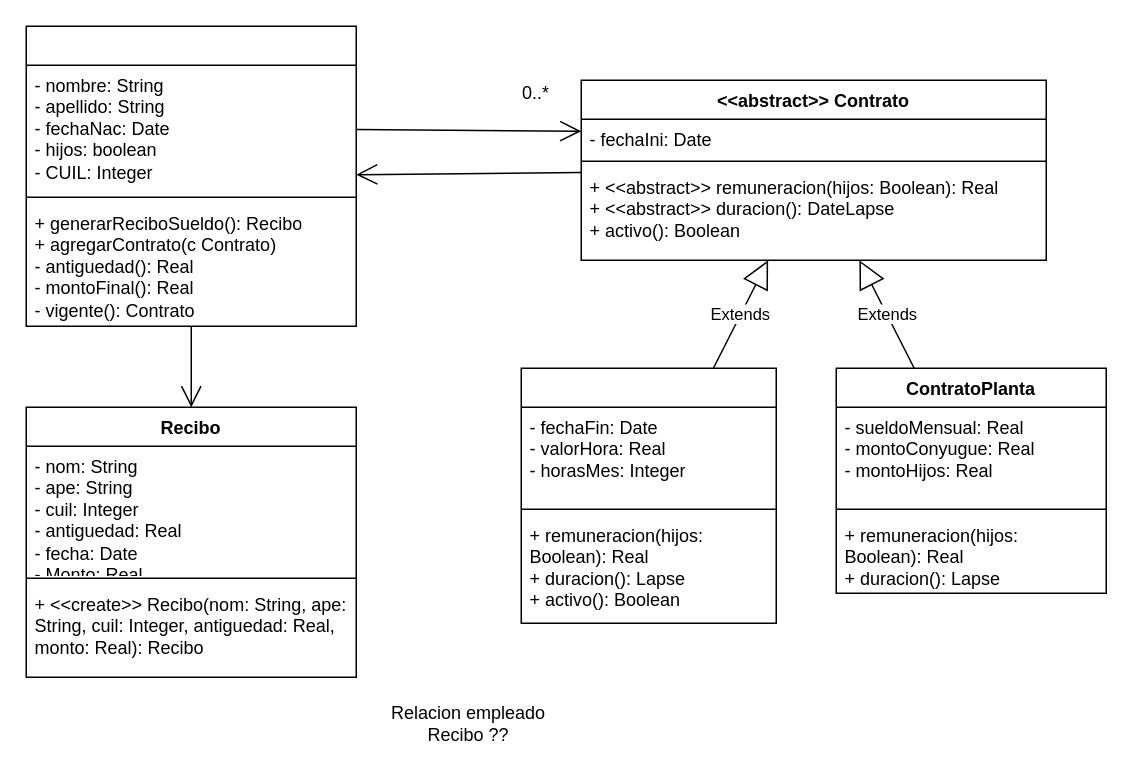
Image size: 1133x773. Some labels were removed from this diagram. Here are the shapes that lost their labels. From the top down, the box of each, then its label:
(25, 25, 356, 326): Empleado
(520, 367, 776, 623): ContratoHora
